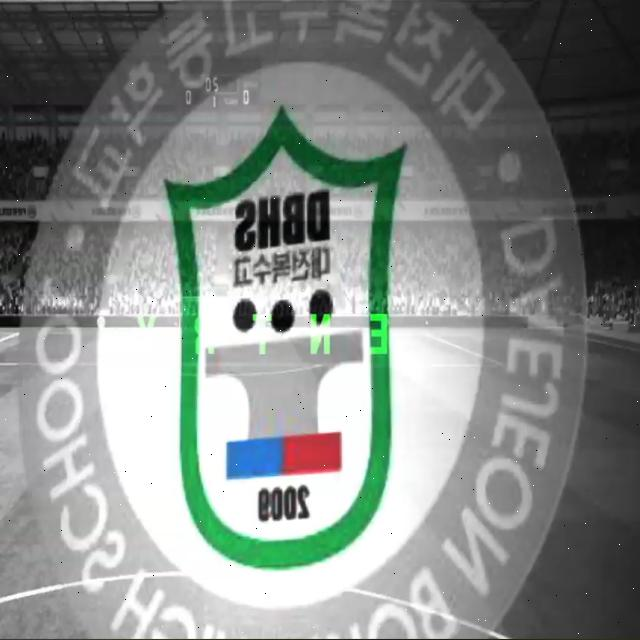logo: (15, 8, 601, 640)
